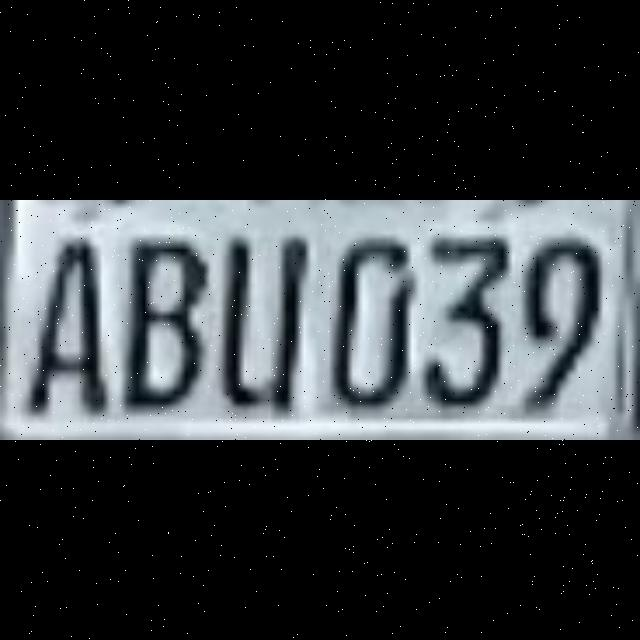0: (316, 231, 410, 419)
3: (412, 231, 506, 419)
9: (508, 231, 602, 419)
A: (31, 231, 125, 419)
B: (127, 231, 221, 419)
U: (223, 231, 317, 419)
